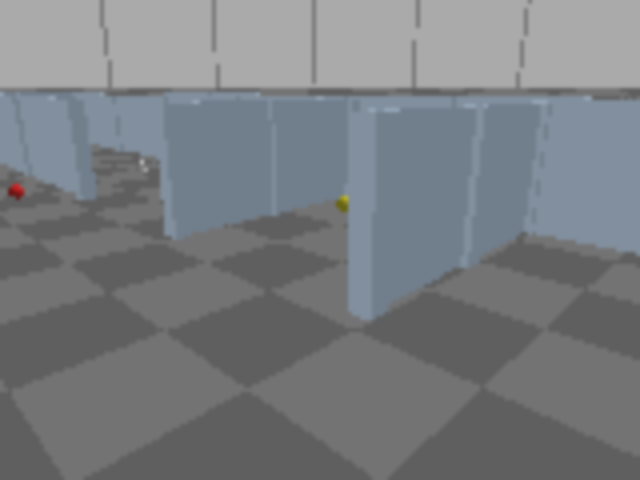puck: (4, 184, 28, 200), (336, 195, 355, 215)
